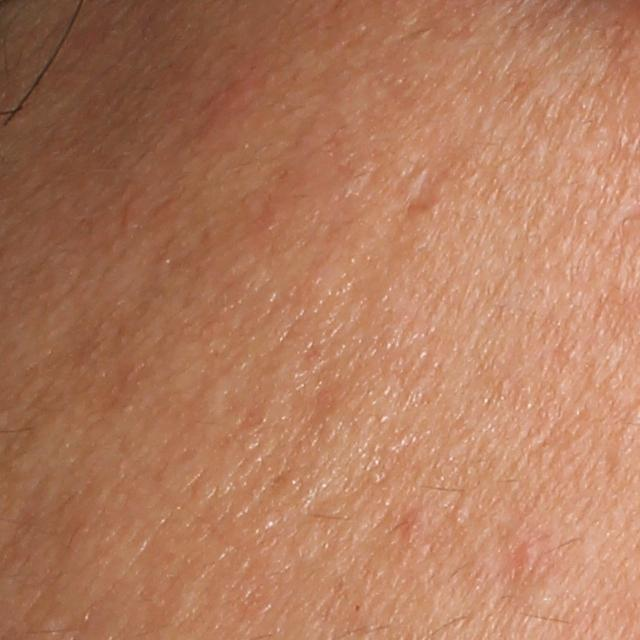atrophic_scar: (405, 163, 447, 217)
comedo: (447, 504, 471, 523)
